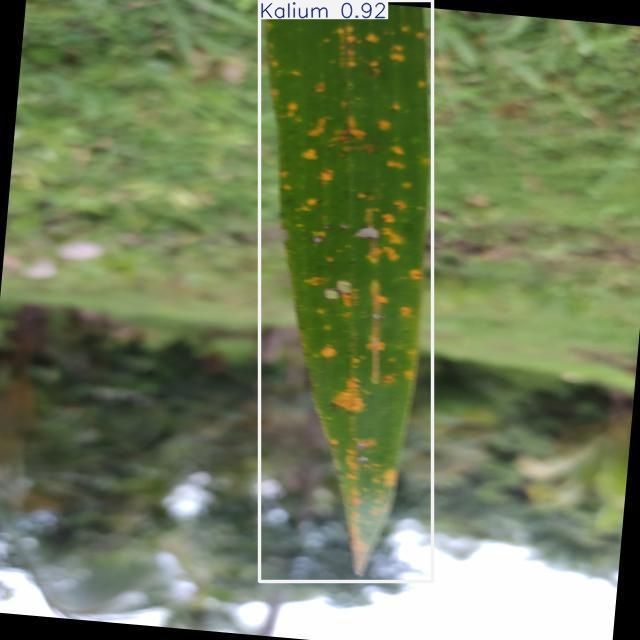Kalium: (260, 0, 432, 581)
